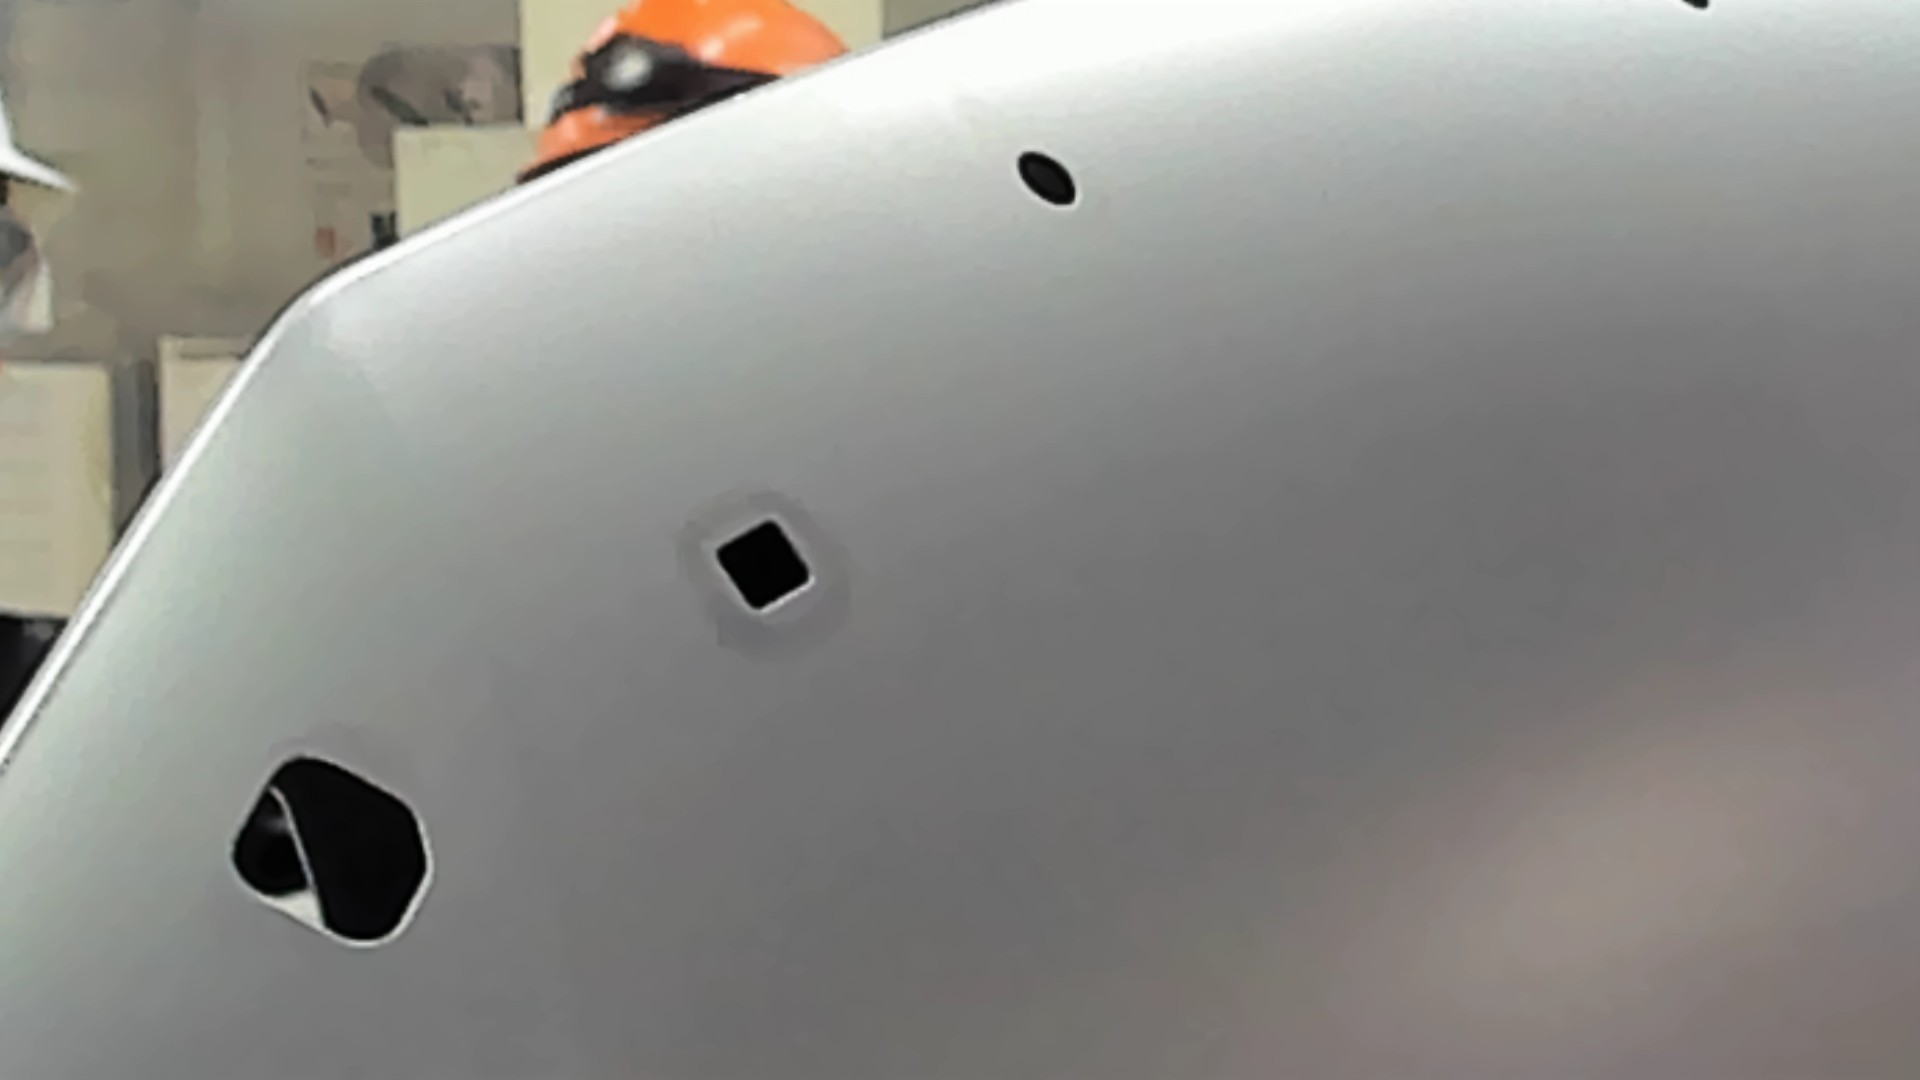chico: (1013, 146, 1083, 214), (1680, 1, 1716, 15)
grande: (225, 750, 436, 953)
mediano: (709, 510, 816, 622)
